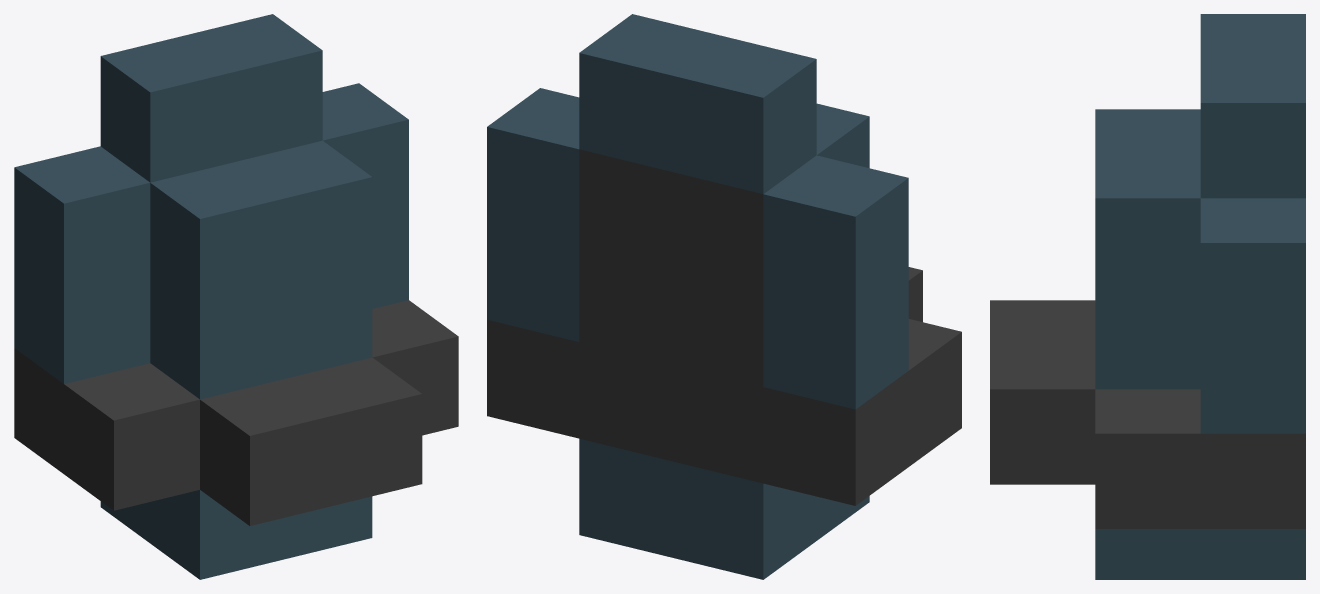
The model's file is Body-1-MicroRecon_Cockpit.obj.
The picture shows the model from 3 angles, left to right: view 1: azimuth 30°, elevation 25°; view 2: azimuth 150°, elevation 25°; view 3: azimuth 270°, elevation 25°; orthographic projection. The views are drawn at different scales.
Visible parts, largest first — view 1: MicroRecon_Cockpit; view 2: MicroRecon_Cockpit; view 3: MicroRecon_Cockpit.
Boxes of the visible parts, bbox=[...] form: MicroRecon_Cockpit: bbox=[14, 14, 458, 579]; MicroRecon_Cockpit: bbox=[487, 14, 961, 579]; MicroRecon_Cockpit: bbox=[990, 14, 1305, 579].
Bounding box in the file's own units: 0.4 × 0.5 × 0.3.
1 material, 1 textured.
